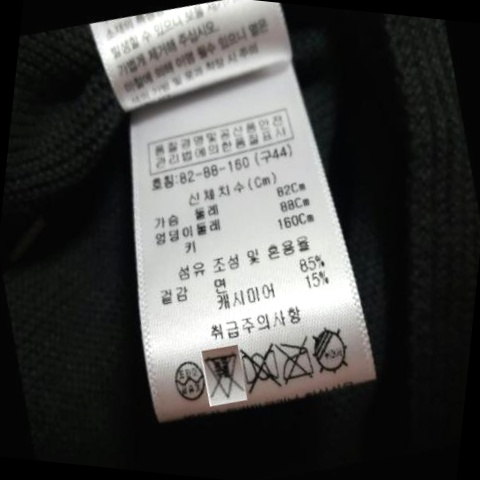DN_iron: (278, 337, 318, 386)
DN_wring: (242, 341, 282, 393)
dry_clean_petrol_only: (170, 351, 208, 405)
dry_flat_in_shade: (306, 321, 353, 380)
non_chlorine_bleach: (204, 346, 243, 401)
